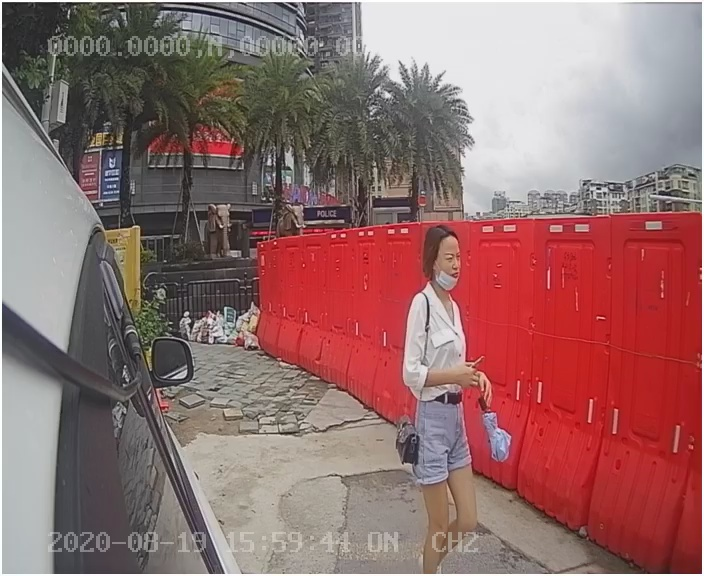person: (363, 222, 523, 536)
